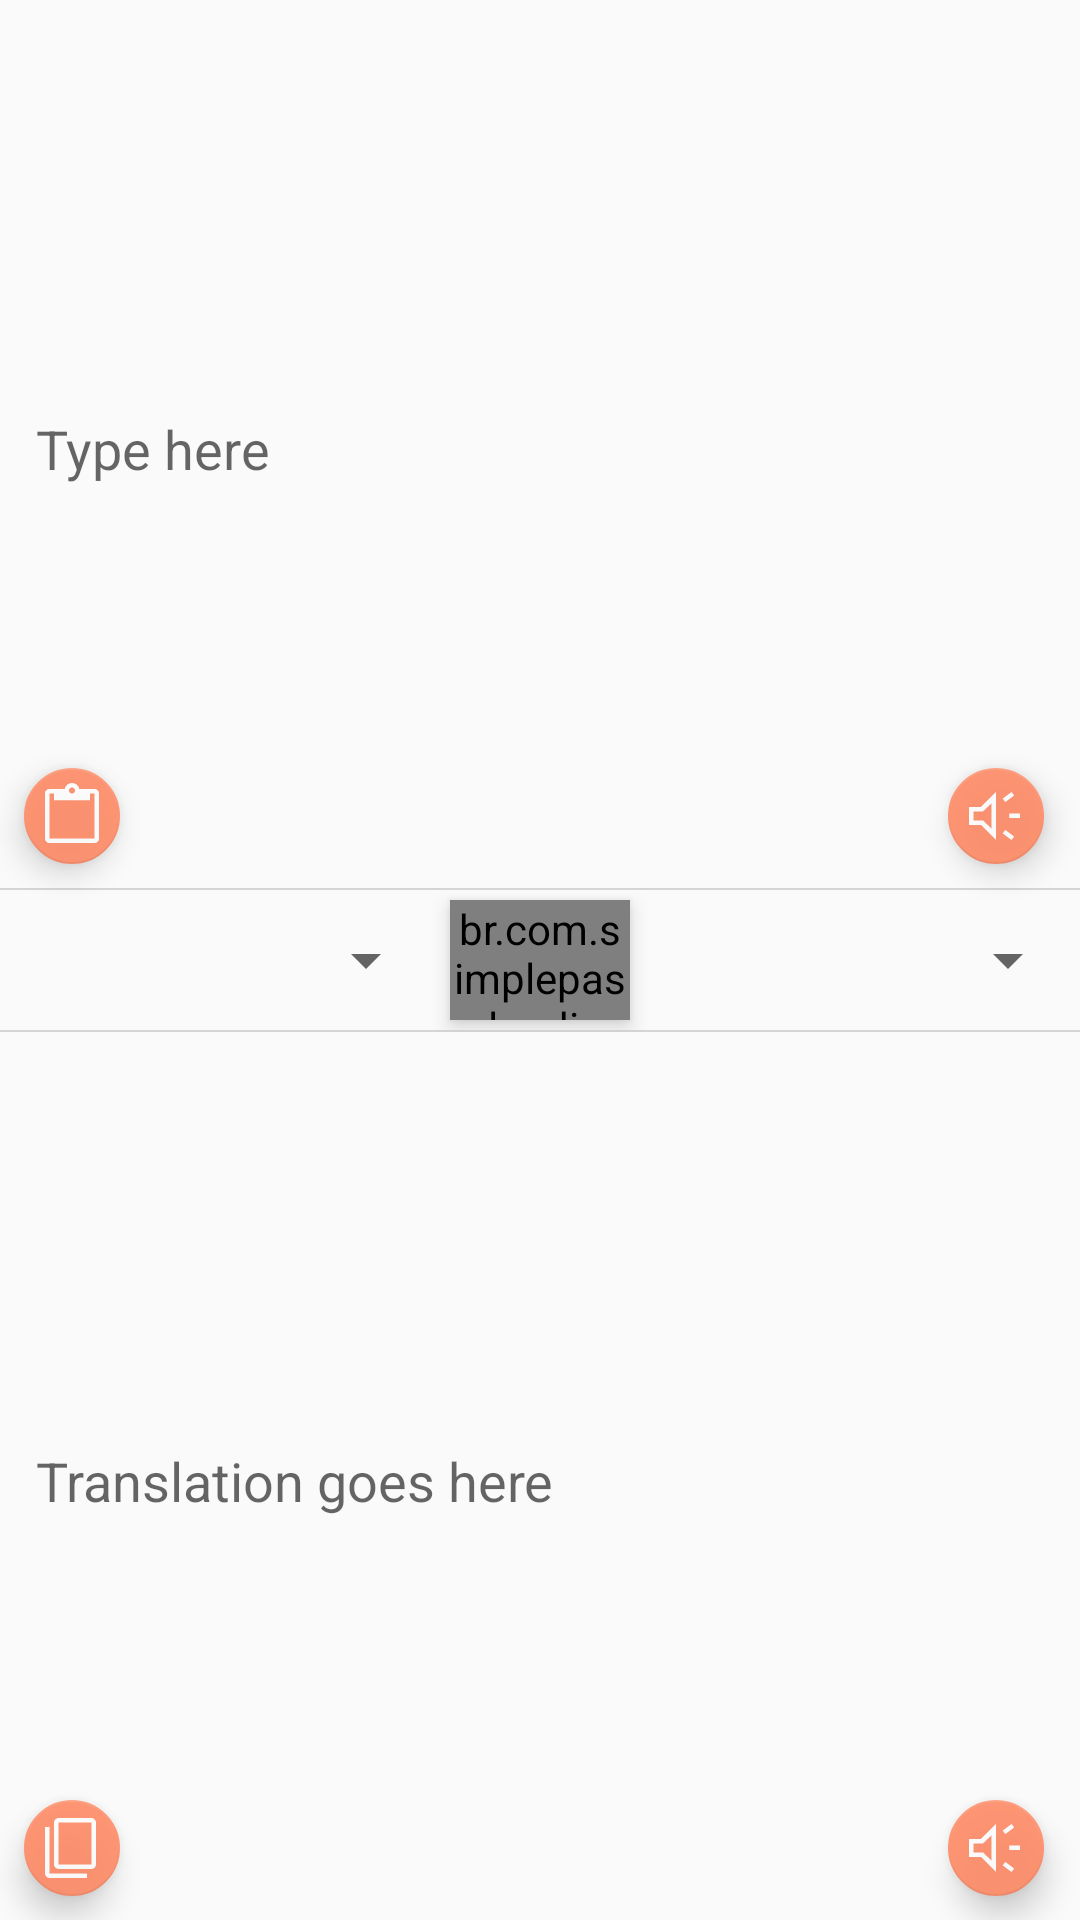

Point at icon controls on the screen. Image size 1080*1920, points as point (x, y).
content paste: point (72, 816)
sound: point (996, 816), point (996, 1848)
